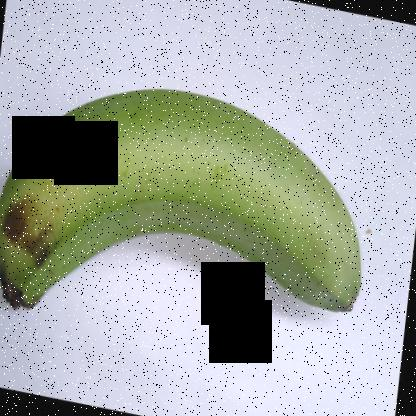freshunripe: (1, 74, 370, 352)
